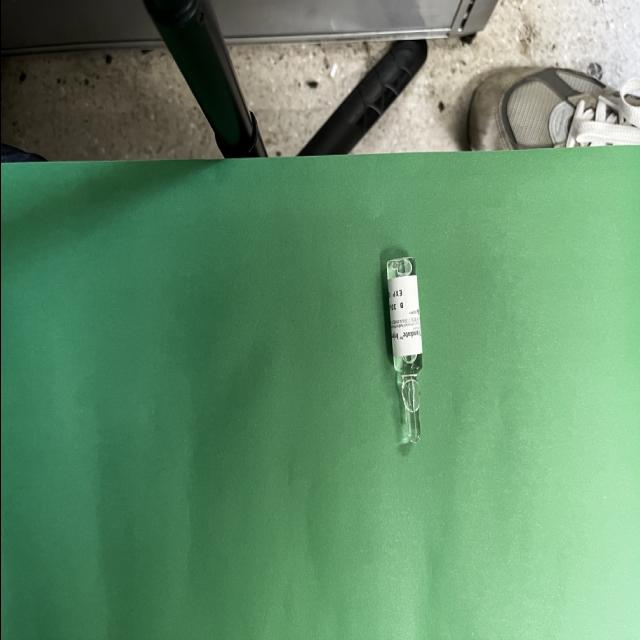Ampoules: (385, 257, 422, 443)
